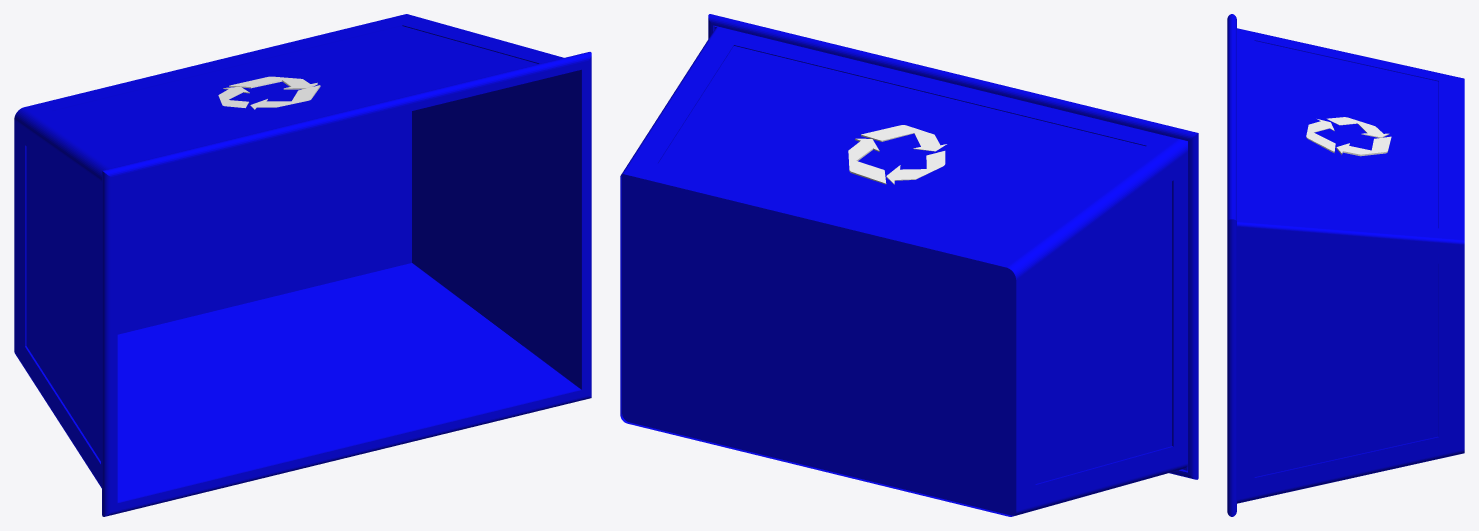
3 renders of one model, left to right at view 1: azimuth 30°, elevation 25°; view 2: azimuth 150°, elevation 25°; view 3: azimuth 270°, elevation 25°, orthographic. The views are drawn at different scales.
Visible parts, largest first — view 1: blue recycle bin; view 2: blue recycle bin; view 3: blue recycle bin.
Boxes of the visible parts, x1=… form: blue recycle bin: x1=14, y1=14, x2=591, y2=516; blue recycle bin: x1=620, y1=14, x2=1198, y2=516; blue recycle bin: x1=1227, y1=14, x2=1464, y2=516.
Size of the model in its own units: 37.05 by 25.05 by 18.12.
